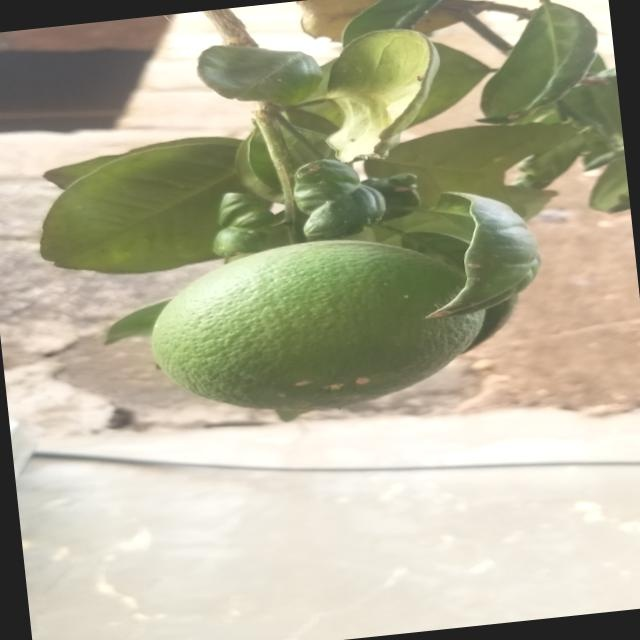agrume: (123, 215, 504, 445)
